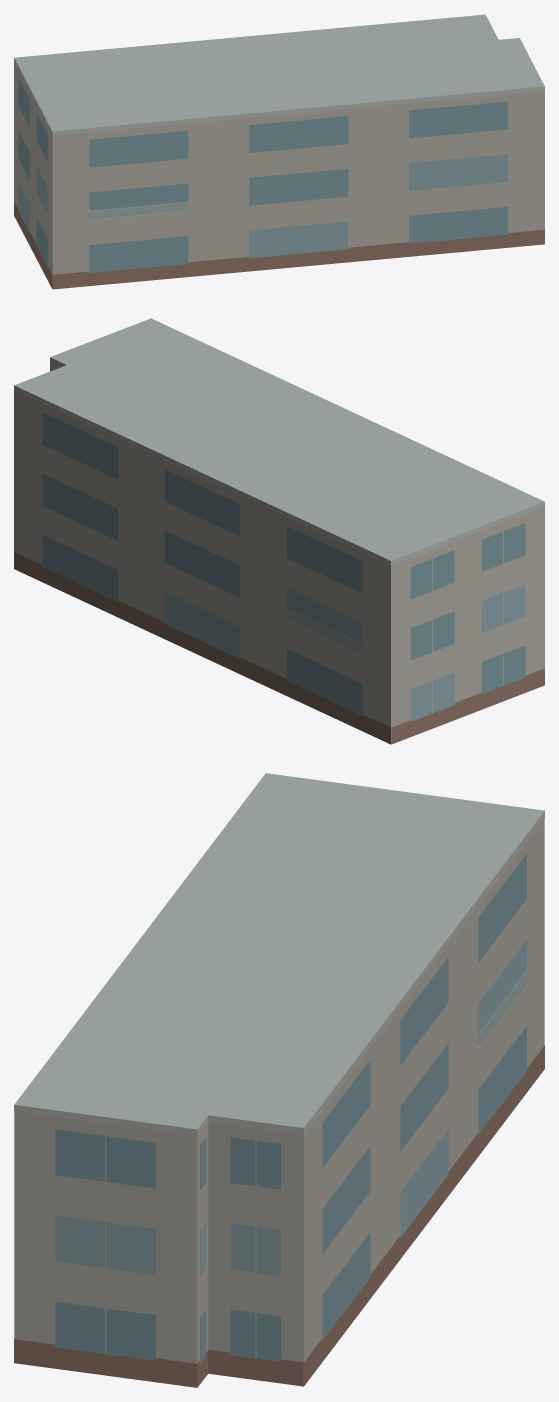
Rendered from survey-upis-32910015.glb.
The picture shows the model from 3 angles, top to bottom: view 1: azimuth 30°, elevation 25°; view 2: azimuth 150°, elevation 25°; view 3: azimuth 270°, elevation 25°; orthographic projection. The views are drawn at different scales.
Parts seen in each view (by area): view 1: survey-upis-32910015.tmp; view 2: survey-upis-32910015.tmp; view 3: survey-upis-32910015.tmp.
Part boxes in pixels (x1=…): survey-upis-32910015.tmp: x1=14, y1=14, x2=544, y2=289; survey-upis-32910015.tmp: x1=14, y1=318, x2=544, y2=744; survey-upis-32910015.tmp: x1=14, y1=773, x2=544, y2=1387.
Bounding box in the file's own units: 27.08 × 9.15 × 17.04.
